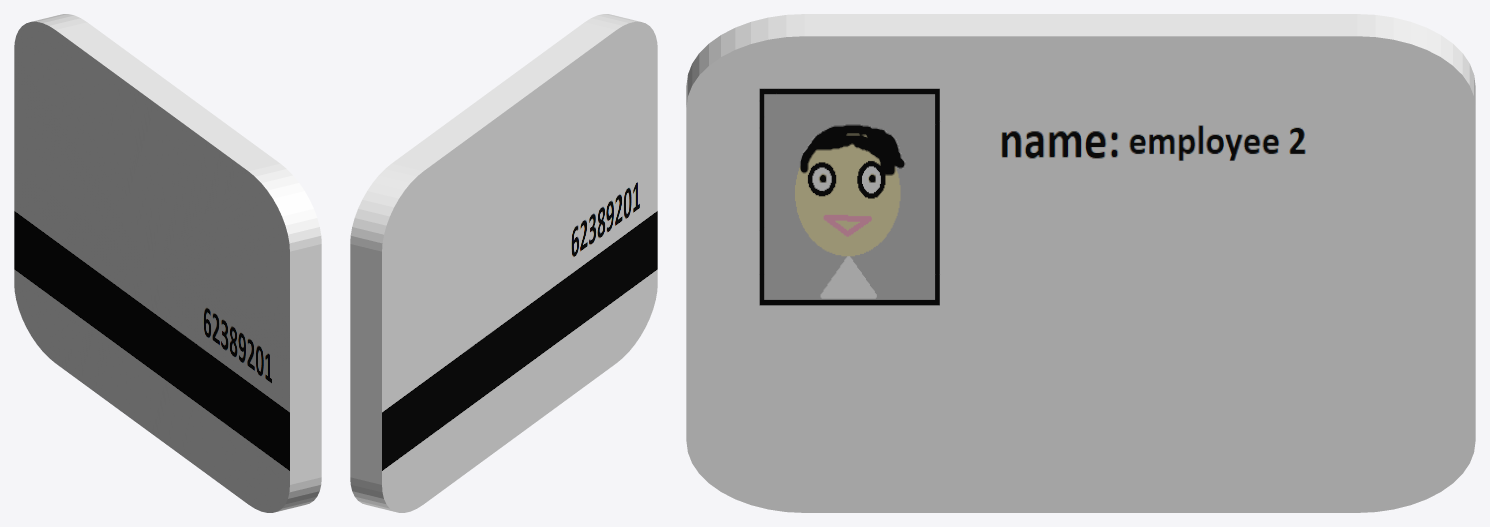
File: Card.fbx
3 views of the same model, side by side, from view 1: azimuth 30°, elevation 25°; view 2: azimuth 150°, elevation 25°; view 3: azimuth 270°, elevation 25° (orthographic). The views are drawn at different scales.
Visible parts, largest first — view 1: Cube; view 2: Cube; view 3: Cube.
Boxes of the visible parts, x1,y1,x2,y2 form: Cube: (14, 14, 321, 512); Cube: (350, 14, 657, 512); Cube: (686, 14, 1475, 512).
Bounding box in the file's own units: 20 × 200 × 300.
